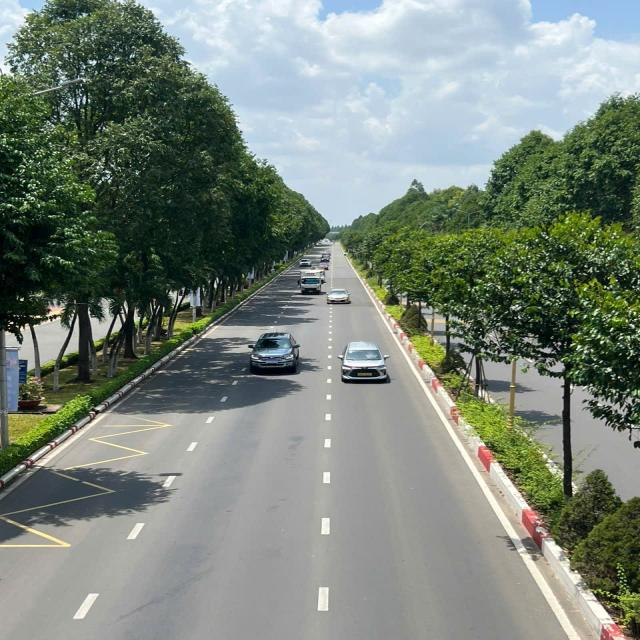Truck: (294, 272, 324, 299)
car: (250, 330, 301, 374), (343, 339, 389, 384), (329, 286, 349, 308), (300, 258, 310, 266), (319, 262, 328, 269), (320, 257, 330, 261)
